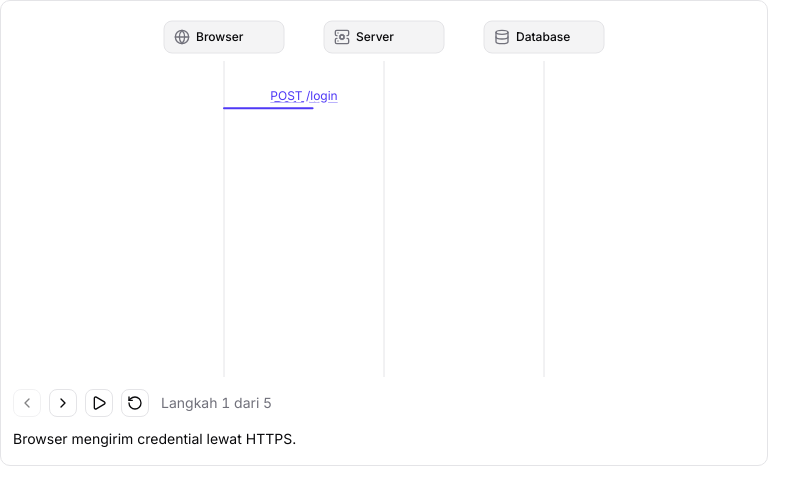
Test: SequenceFlow › Next advances the aria-current step
Click the button named "maju": click(63, 403) 49,389 -> 77,417
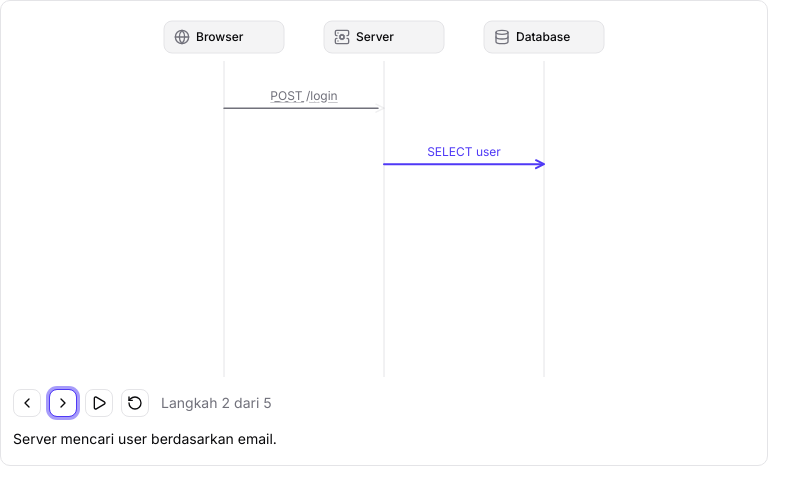
Expected: the text "Langkah 2 dari 5" is shown, 161,393 -> 272,413
